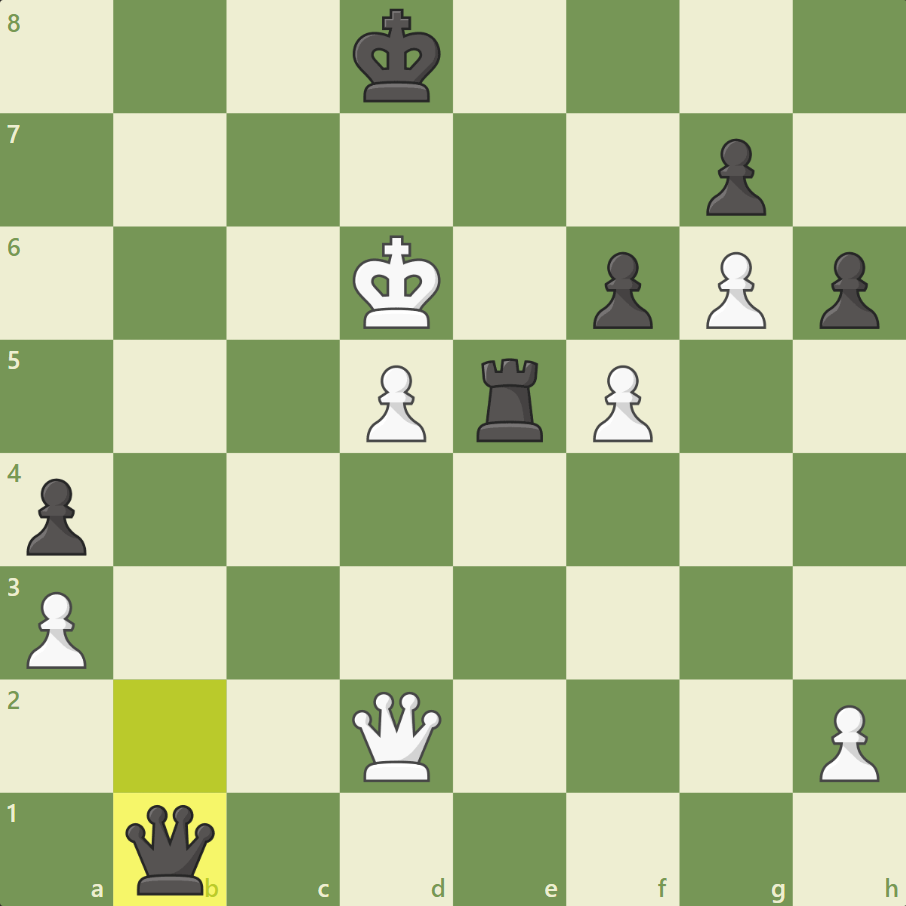K: (351, 231, 442, 335)
P: (362, 361, 432, 447), (589, 362, 656, 446), (28, 584, 90, 674), (707, 249, 772, 332), (816, 704, 883, 784)
Q: (350, 686, 444, 785)
k: (349, 6, 447, 106)
p: (700, 134, 774, 221), (812, 245, 882, 333), (19, 475, 90, 561), (590, 249, 658, 334)
q: (122, 795, 219, 903)
r: (470, 349, 547, 447)
